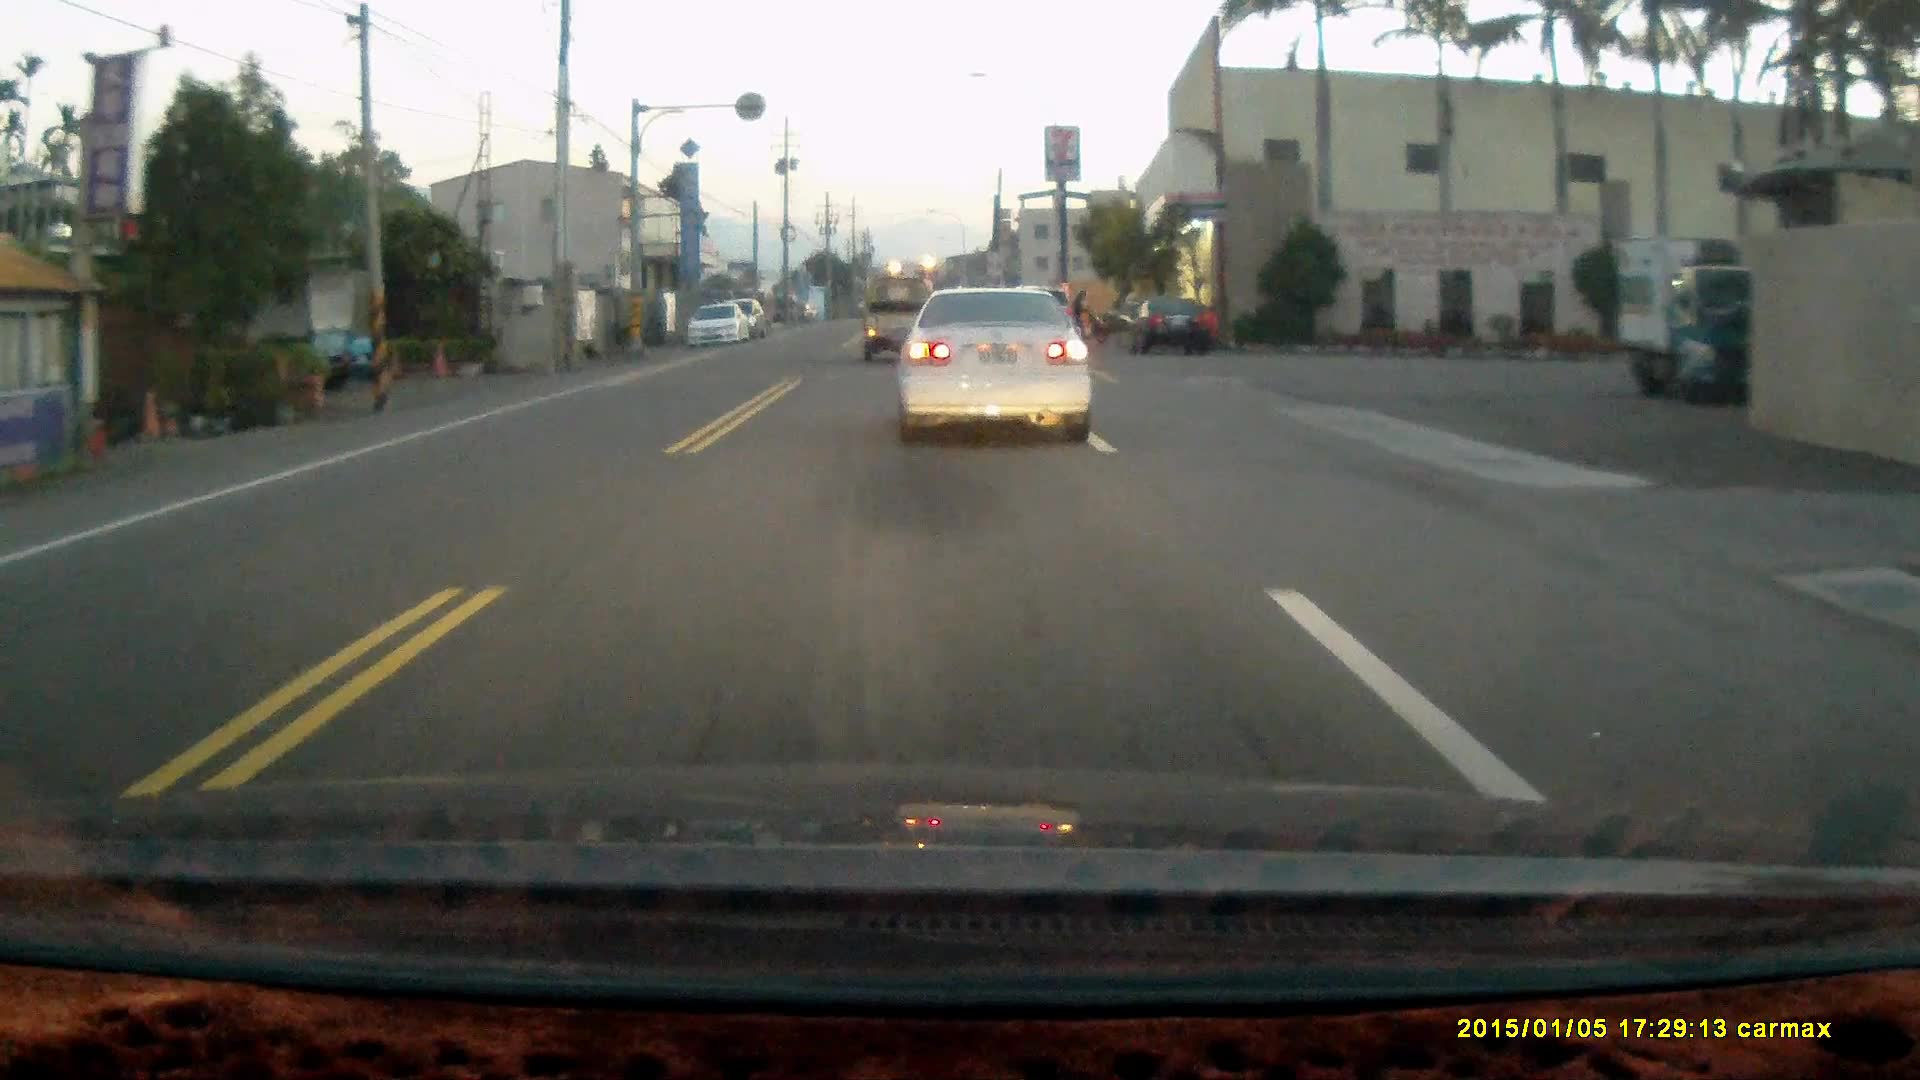rider: (1058, 287, 1108, 342)
vehicle: (899, 284, 1094, 441), (1616, 237, 1792, 406), (859, 276, 933, 363), (1120, 296, 1215, 358), (686, 302, 751, 348)
